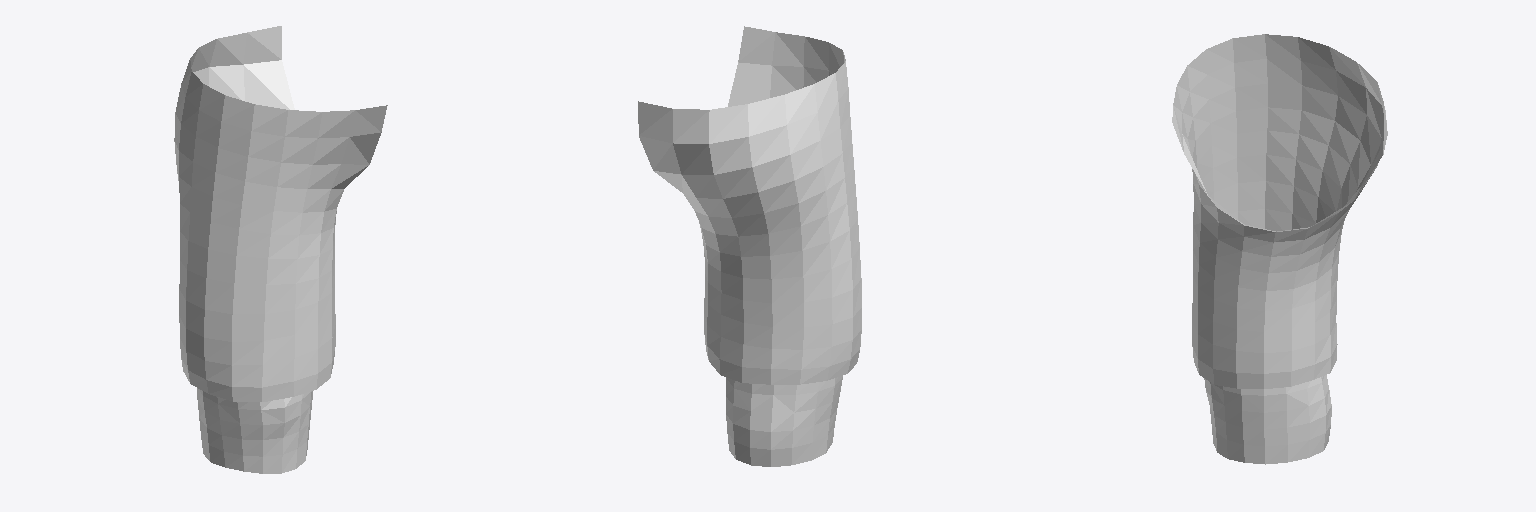
Rendered from UpperLegsR.obj.
3 renders of one model, left to right at view 1: azimuth 30°, elevation 25°; view 2: azimuth 150°, elevation 25°; view 3: azimuth 270°, elevation 25°, orthographic.
Visible parts, largest first — view 1: Ch46.008_Mesh.008; view 2: Ch46.008_Mesh.008; view 3: Ch46.008_Mesh.008.
Boxes of the visible parts, <box> form: Ch46.008_Mesh.008: <box>174,26,387,473</box>; Ch46.008_Mesh.008: <box>638,26,861,466</box>; Ch46.008_Mesh.008: <box>1172,34,1387,464</box>.
Bounding box in the file's own units: 0.7578 × 1.79 × 0.9099.